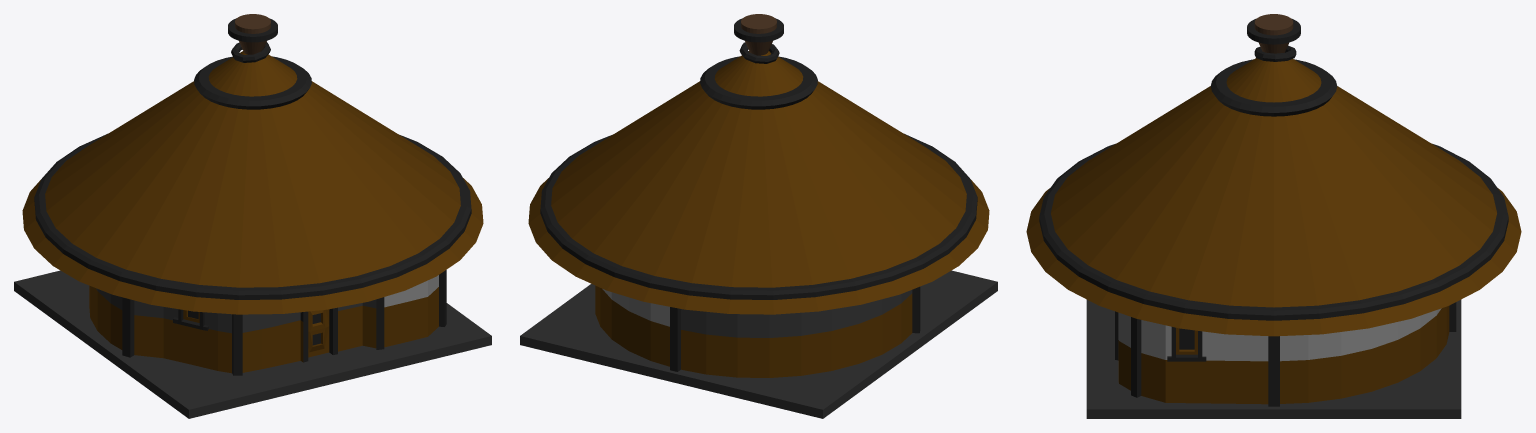
File: Rumah kades.dae
3 views of the same model, side by side, from view 1: azimuth 30°, elevation 25°; view 2: azimuth 150°, elevation 25°; view 3: azimuth 270°, elevation 25° (orthographic). The views are drawn at different scales.
Visible parts, largest first — view 1: 2. Rumah kades; view 2: 2. Rumah kades; view 3: 2. Rumah kades.
Boxes of the visible parts, left/top/right/bottom form: 2. Rumah kades: left=14, top=14, right=491, bottom=418; 2. Rumah kades: left=520, top=14, right=997, bottom=418; 2. Rumah kades: left=1026, top=14, right=1521, bottom=418.
Size of the model in its own units: 43.3 by 43.3 by 30.65.
